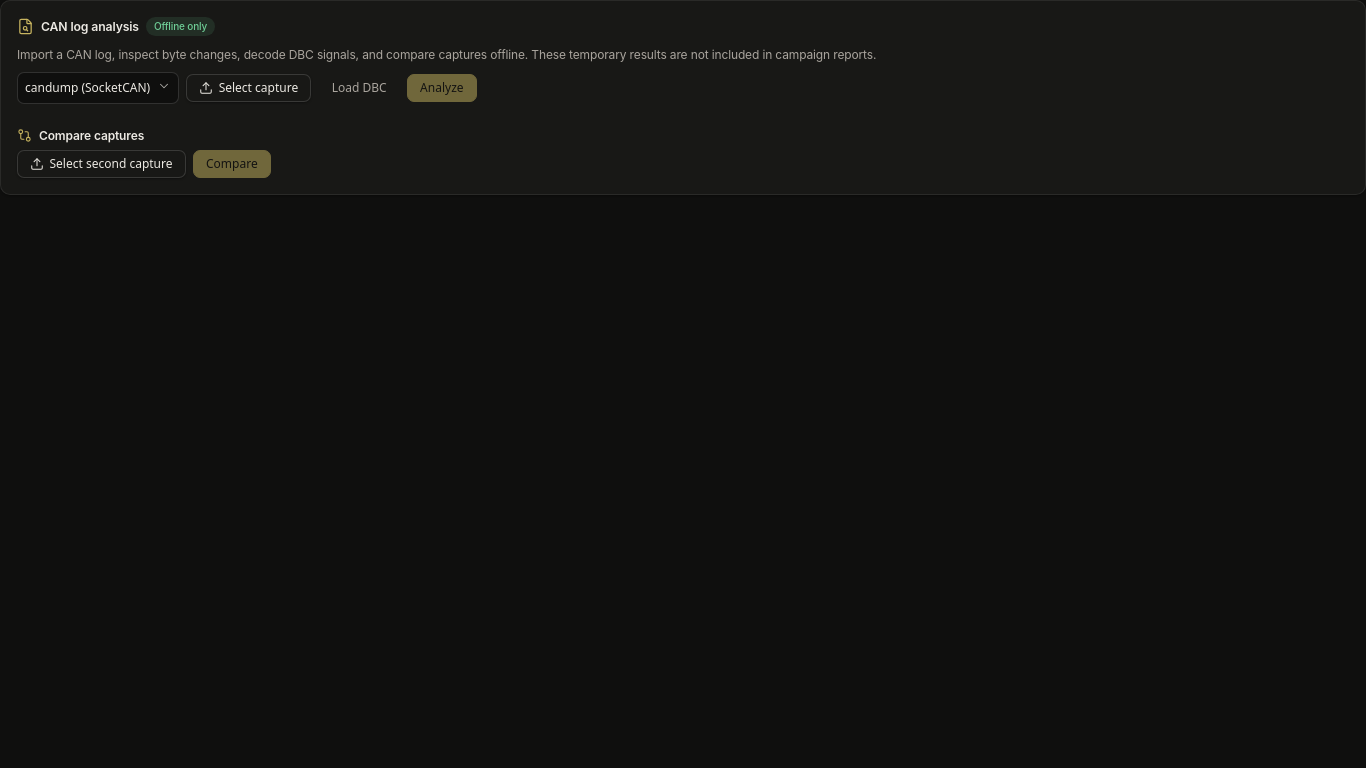
Scenario: does not leave a successful decode visible after a failed retry
The width and height of the screenshot is (1366, 768).
Click the button "Select capture": (249, 88) top-left (186, 74), bottom-right (311, 102)
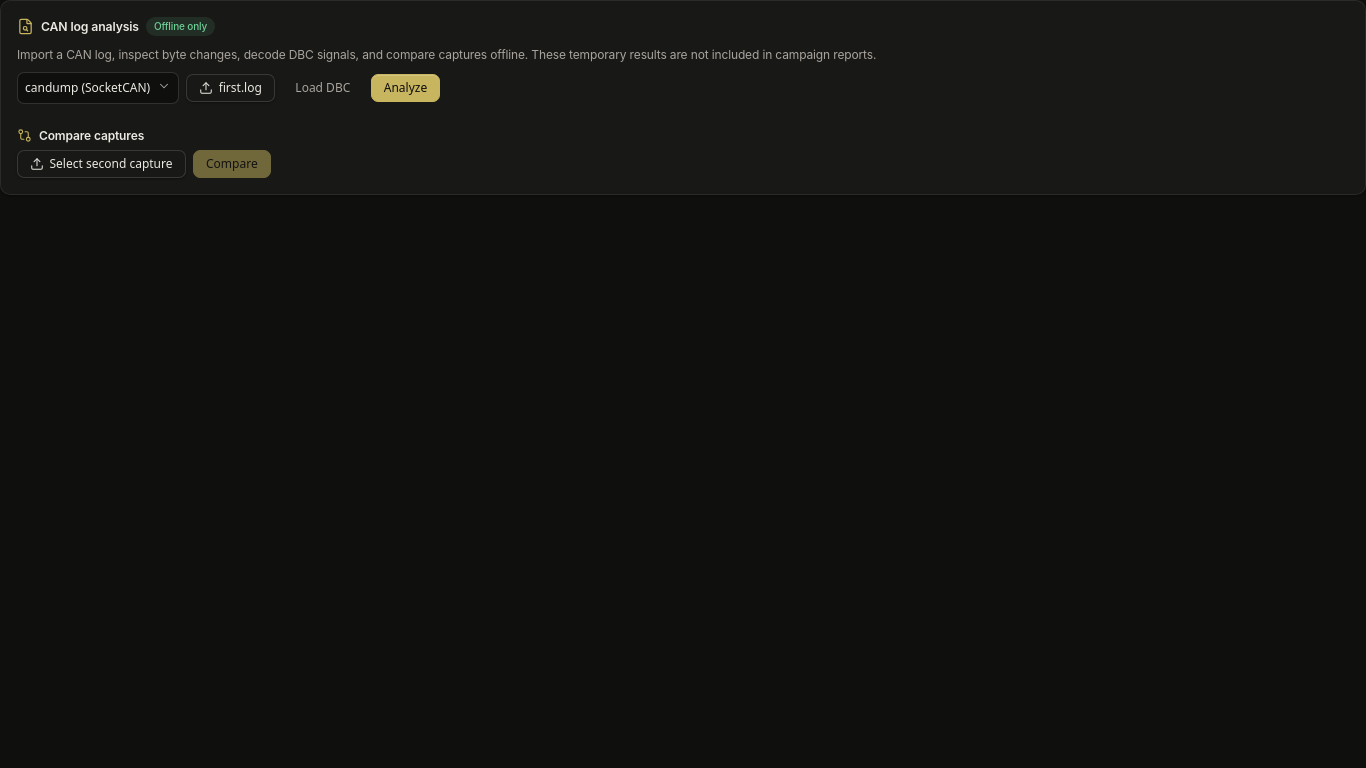
Click the button "Analyze": (406, 88) top-left (370, 74), bottom-right (440, 102)
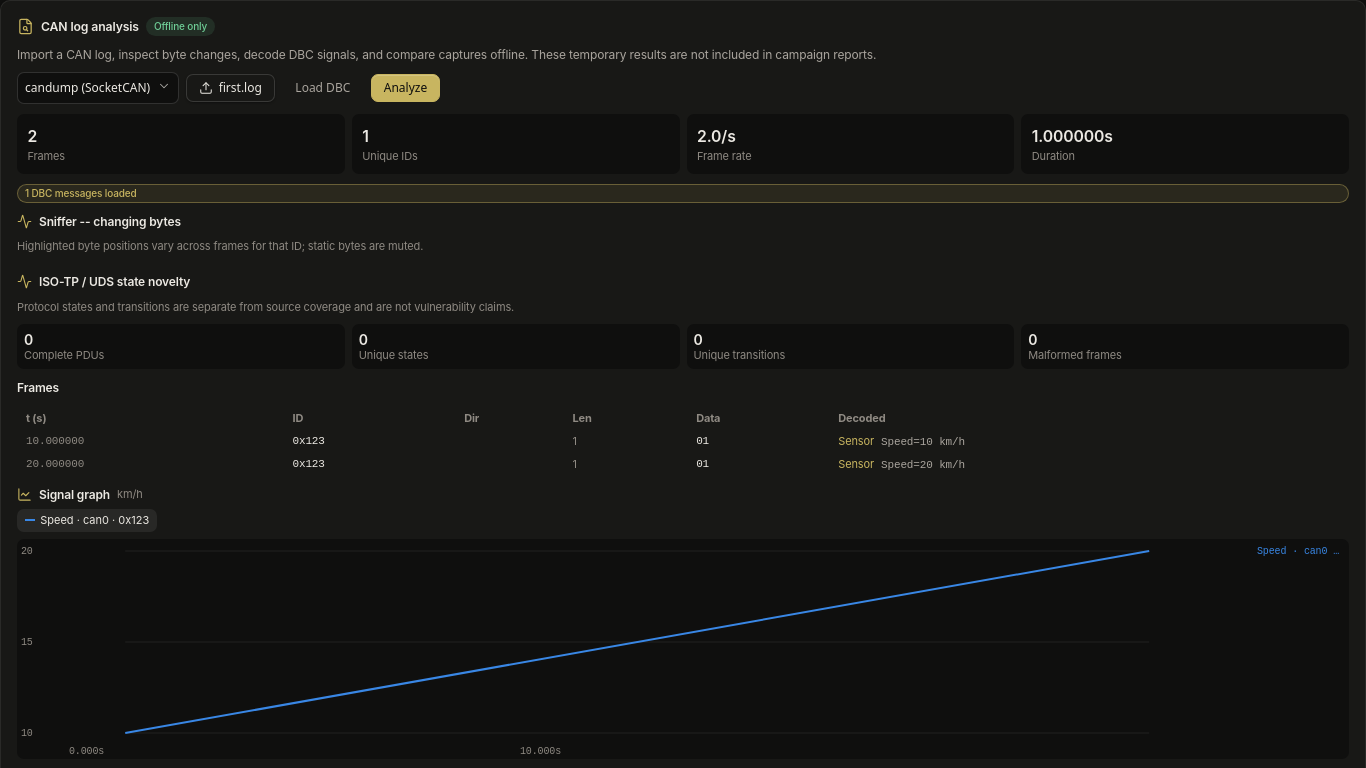
expect the table shows "Sensor": met, box top-left (838, 434), bottom-right (874, 448)
Click the button "Analyze": (406, 88) top-left (370, 74), bottom-right (440, 102)
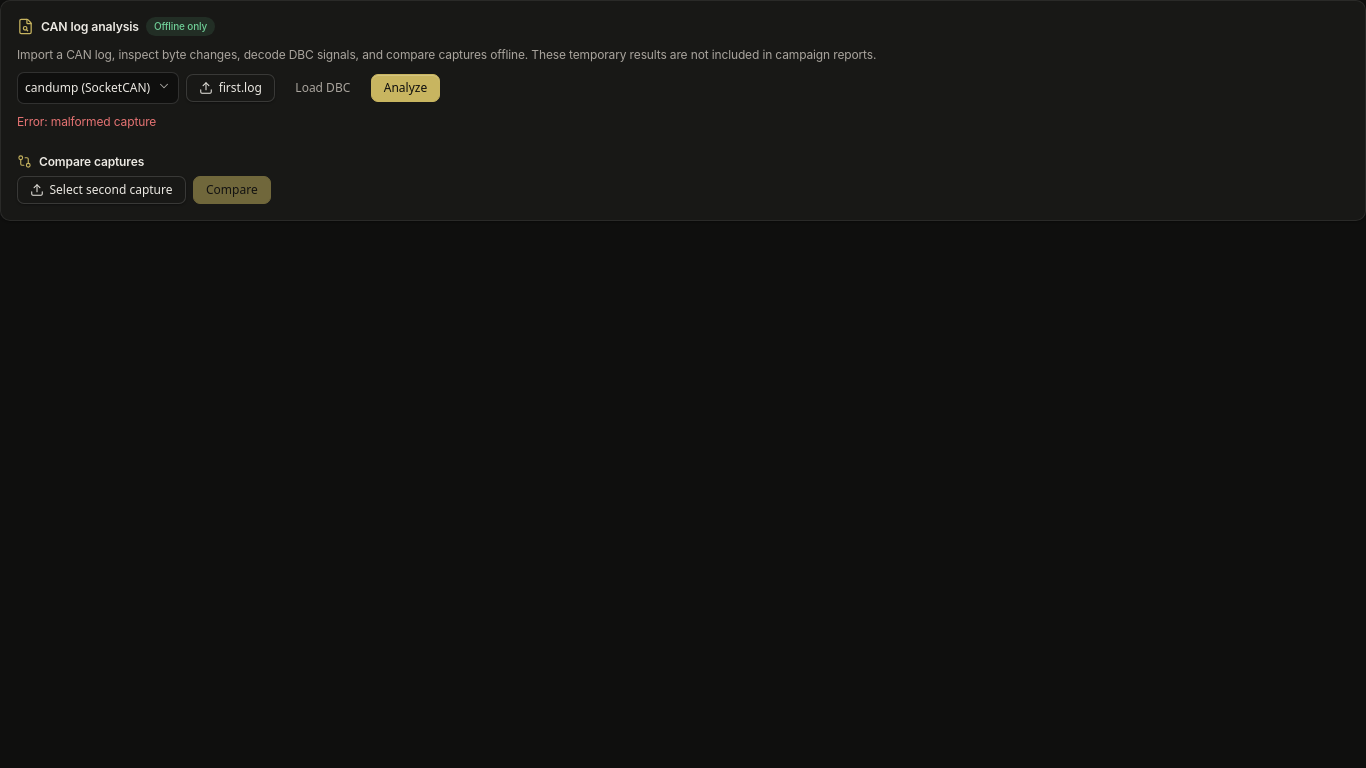
expect the message "Error: malformed capture" is shown: met, box top-left (17, 114), bottom-right (156, 129)
expect the table is gone: met
